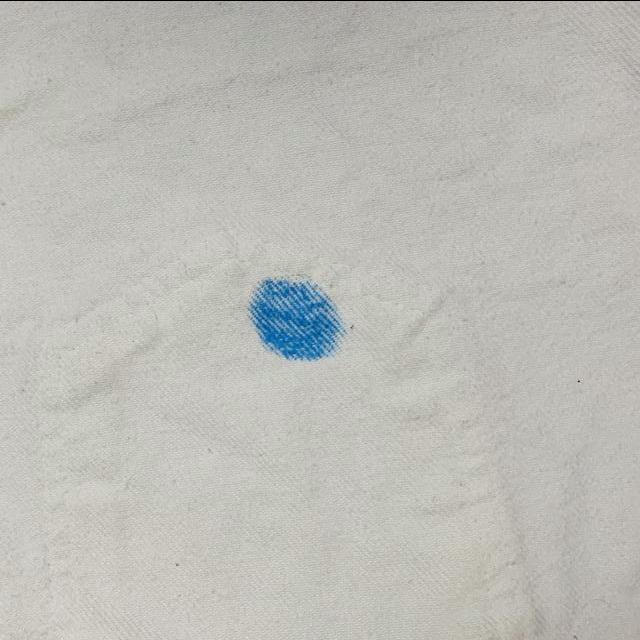Stain: (249, 277, 344, 359)
